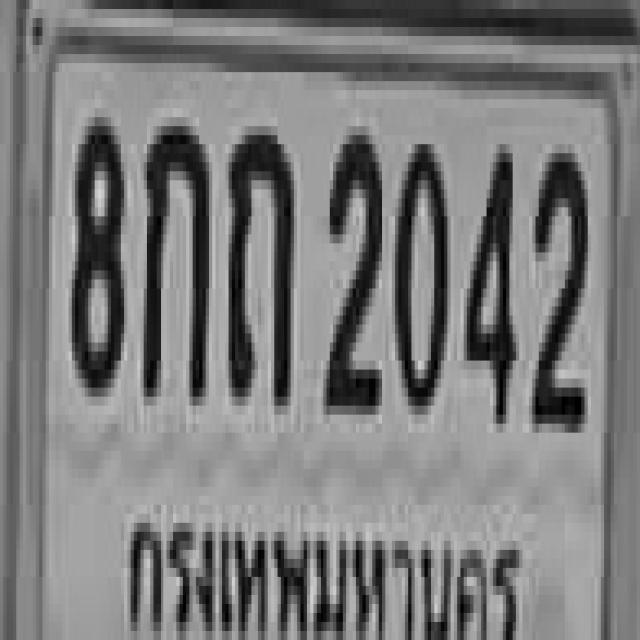0: (392, 135, 444, 406)
10GorGai: (140, 117, 206, 397)
2: (320, 126, 379, 406), (529, 144, 584, 424)
31ThorThung: (225, 117, 291, 397)
4: (463, 135, 512, 415)
8: (68, 108, 120, 388)
Bangkok: (114, 474, 527, 640)
